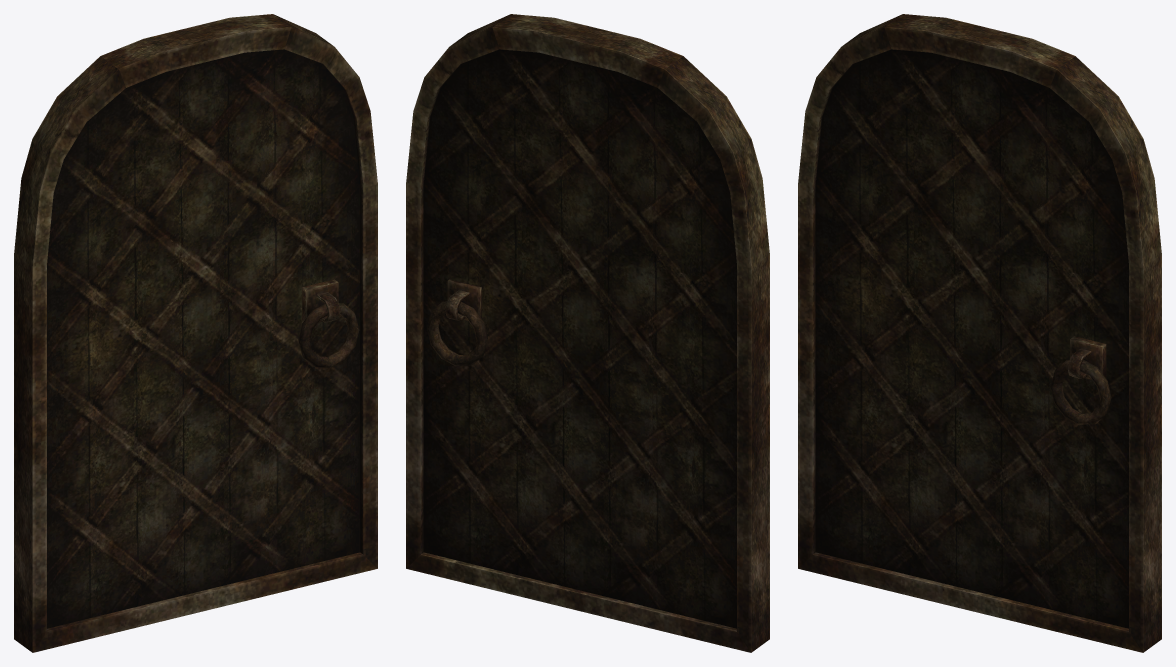
File: sewer_arched_broken.dae
The picture shows the model from 3 angles, left to right: view 1: azimuth 30°, elevation 25°; view 2: azimuth 150°, elevation 25°; view 3: azimuth 330°, elevation 25°; orthographic projection.
Parts seen in each view (by area): view 1: pCube2, polySurface27; view 2: pCube2, polySurface27; view 3: pCube2, polySurface27.
Part boxes in pixels (left/top/right/bottom): pCube2: left=14, top=14, right=377, bottom=652; polySurface27: left=298, top=279, right=359, bottom=367; pCube2: left=406, top=14, right=769, bottom=652; polySurface27: left=427, top=279, right=487, bottom=366; pCube2: left=798, top=14, right=1161, bottom=652; polySurface27: left=1050, top=336, right=1111, bottom=424.
Size of the model in its own units: 1.75 by 0.388 by 2.75.
